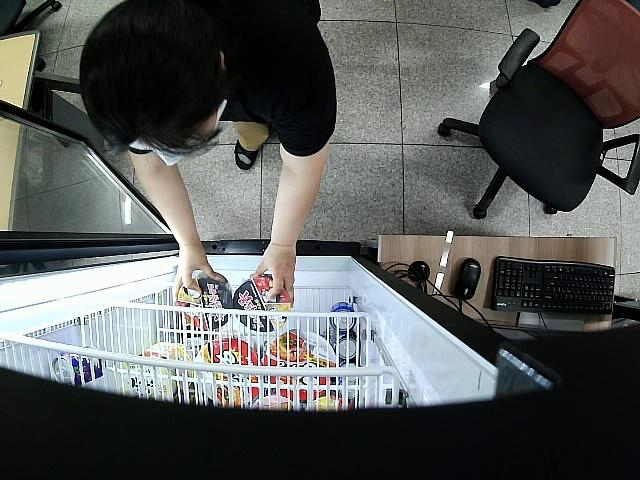00_hand: (250, 245, 297, 305), (171, 251, 218, 300)
07_buldak_L: (233, 275, 291, 331), (176, 276, 230, 333)
